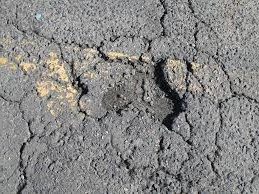pothole: (142, 57, 182, 129), (100, 74, 131, 115)
